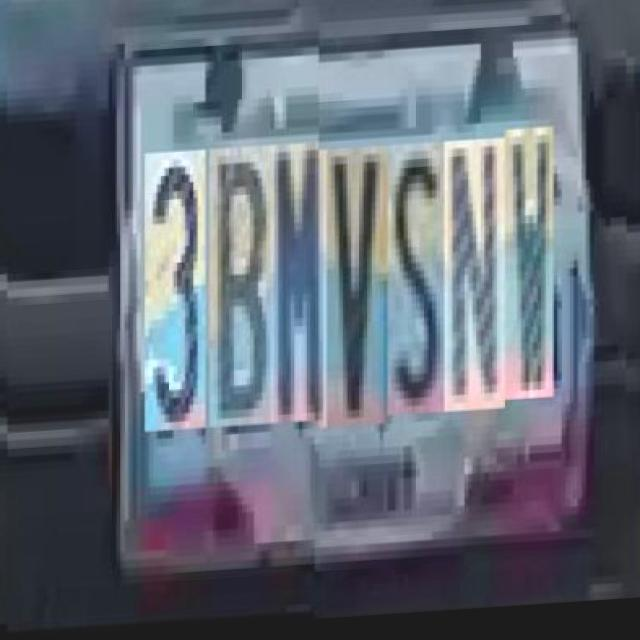3: (145, 151, 206, 434)
b: (210, 148, 270, 431)
m: (270, 145, 328, 428)
n: (444, 136, 505, 410)
s: (388, 139, 444, 413)
v: (327, 142, 388, 425)
w: (504, 125, 553, 399)
